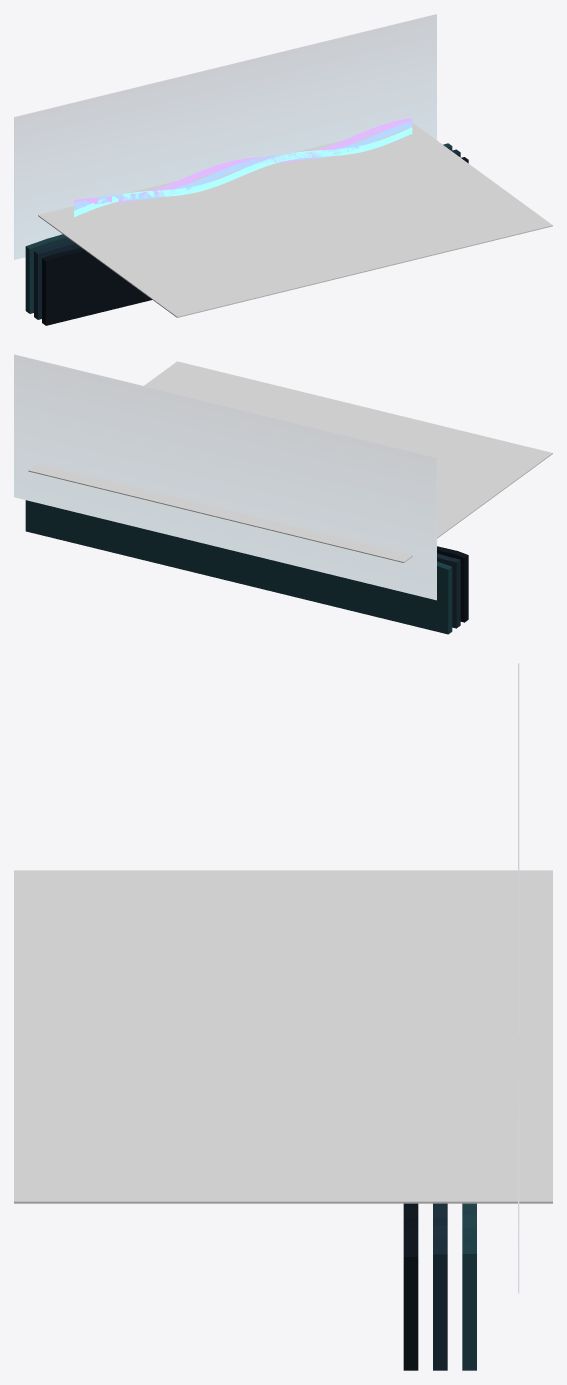
File: aurora.glb
The picture shows the model from 3 angles, top to bottom: view 1: azimuth 30°, elevation 25°; view 2: azimuth 150°, elevation 25°; view 3: azimuth 270°, elevation 25°; orthographic projection. The views are drawn at different scales.
Parts seen in each view (by area): view 1: Ground contact / transparent shadow receiver.004, Sky gradient / editable material.004, World / terrain and architecture.004, World / windows and source motifs.003; view 2: Sky gradient / editable material.004, Ground contact / transparent shadow receiver.004, World / terrain and architecture.004; view 3: Ground contact / transparent shadow receiver.004, World / terrain and architecture.004, Sky gradient / editable material.004.
Part boxes in pixels (bbox=[...]): Ground contact / transparent shadow receiver.004: bbox=[38, 123, 552, 317]; Sky gradient / editable material.004: bbox=[14, 14, 436, 259]; World / terrain and architecture.004: bbox=[25, 143, 468, 325]; World / windows and source motifs.003: bbox=[74, 118, 412, 217]; Sky gradient / editable material.004: bbox=[14, 354, 436, 600]; Ground contact / transparent shadow receiver.004: bbox=[28, 361, 552, 562]; World / terrain and architecture.004: bbox=[25, 500, 468, 634]; Ground contact / transparent shadow receiver.004: bbox=[14, 870, 552, 1203]; World / terrain and architecture.004: bbox=[403, 1203, 476, 1370]; Sky gradient / editable material.004: bbox=[518, 663, 519, 1293].
Bounding box in the file's own units: 180 × 75.4 × 110.
